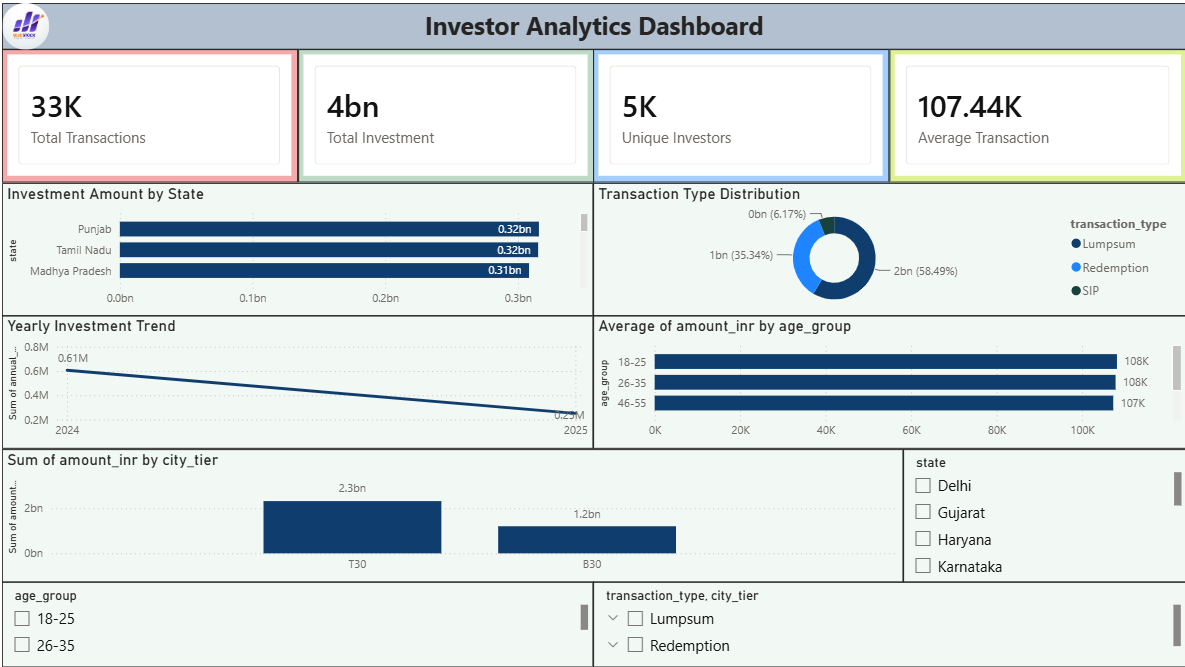

What the dashboard file says about the page in this screenshot:
{"tool":"powerbi","page":{"name":"Investor Analytics","canvas":[1280,720],"ordinal":2},"visuals":[{"type":"textbox","box":[0,0,1280.3,50.2],"z":0},{"type":"cardVisual","fields":{"Data":["08_investor_transactions.Total Transactions"]},"box":[0,50.2,319.7,143.9],"z":1000},{"type":"cardVisual","fields":{"Data":["08_investor_transactions.Total Investment"]},"box":[319.7,50.2,319.7,143.9],"z":2000},{"type":"cardVisual","fields":{"Data":["08_investor_transactions.Average Transaction"]},"box":[959,50.2,321.3,143.9],"z":3000},{"type":"cardVisual","fields":{"Data":["08_investor_transactions.Unique Investors"]},"box":[639.3,50.2,319.7,143.9],"z":4000},{"type":"clusteredBarChart","title":"Investment Amount by State","fields":{"Category":["08_investor_transactions.state"],"Y":["Sum(08_investor_transactions.amount_inr)"]},"box":[0,194.1,639.3,143.9],"z":5000},{"type":"donutChart","title":"Transaction Type Distribution","fields":{"Category":["08_investor_transactions.transaction_type"],"Y":["Sum(08_investor_transactions.amount_inr)"]},"box":[639.3,194.1,641,143.9],"z":6000},{"type":"lineChart","title":"Yearly Investment Trend","fields":{"Category":["08_investor_transactions.transaction_date.Variation.Date Hierarchy.Year","08_investor_transactions.transaction_date.Variation.Date Hierarchy.Quarter","08_investor_transactions.transaction_date.Variation.Date Hierarchy.Month","08_investor_transactions.transaction_date.Variation.Date Hierarchy.Day"],"Y":["Sum(08_investor_transactions.annual_income_lakh)"]},"box":[0,338.1,639.3,143.9],"z":7000},{"type":"barChart","fields":{"Category":["08_investor_transactions.age_group"],"Y":["Avg(08_investor_transactions.amount_inr)"]},"box":[639.3,338.1,641,143.9],"z":8000},{"type":"columnChart","fields":{"Category":["08_investor_transactions.city_tier"],"Y":["Sum(08_investor_transactions.amount_inr)"]},"box":[0,482,974.1,143.9],"z":9000},{"type":"slicer","fields":{"Values":["08_investor_transactions.state"]},"box":[974.1,482,306.3,143.9],"z":10000},{"type":"slicer","fields":{"Values":["08_investor_transactions.transaction_type","08_investor_transactions.city_tier"]},"box":[639.3,625.9,641,93.7],"z":11000},{"type":"slicer","fields":{"Values":["08_investor_transactions.age_group"]},"box":[0,625.9,639.3,93.7],"z":12000},{"type":"image","box":[0,0,51.4,50],"z":13000}]}

Visuals, with their boxes in screenshot pixels (x1, y1, x2, y2), scaled from the page's 1280x720 canvas onto the 1185x667 screenshot:
textbox: 0, 0, 1184, 47
cardVisual - 08_investor_transactions.Total Transactions: 0, 47, 296, 180
cardVisual - 08_investor_transactions.Total Investment: 296, 47, 592, 180
cardVisual - 08_investor_transactions.Average Transaction: 888, 47, 1184, 180
cardVisual - 08_investor_transactions.Unique Investors: 592, 47, 888, 180
"Investment Amount by State" clusteredBarChart: 0, 180, 592, 313
"Transaction Type Distribution" donutChart: 592, 180, 1184, 313
"Yearly Investment Trend" lineChart: 0, 313, 592, 447
barChart - 08_investor_transactions.age_group x Avg(08_investor_transactions.amount_inr): 592, 313, 1184, 447
columnChart - 08_investor_transactions.city_tier x Sum(08_investor_transactions.amount_inr): 0, 447, 902, 580
slicer - 08_investor_transactions.state: 902, 447, 1184, 580
slicer - 08_investor_transactions.transaction_type x 08_investor_transactions.city_tier: 592, 580, 1184, 666
slicer - 08_investor_transactions.age_group: 0, 580, 592, 666
image: 0, 0, 48, 46
